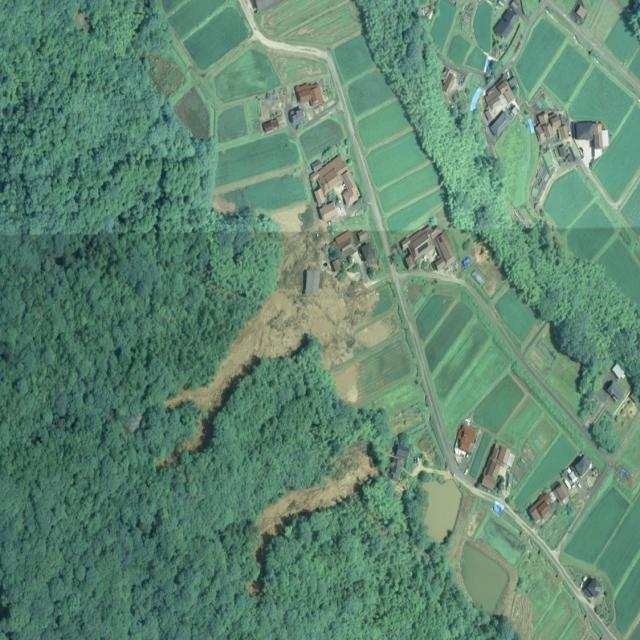landslide: (166, 231, 378, 415), (258, 443, 378, 536)
